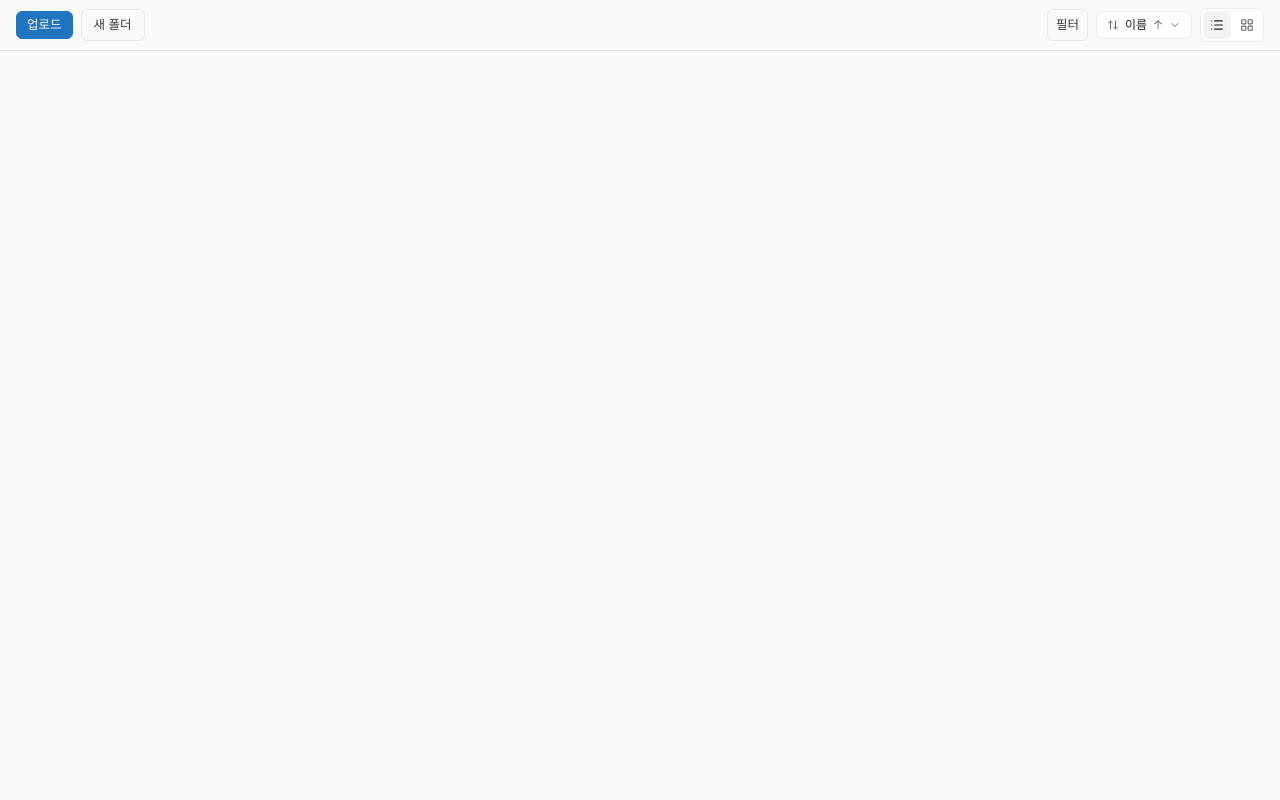
Test: FolderToolbar › "새 폴더" 클릭 시 CreateFolderDialog가 열린다
Click the button "새 폴더".
click(112, 25)  # box [80, 9, 144, 41]
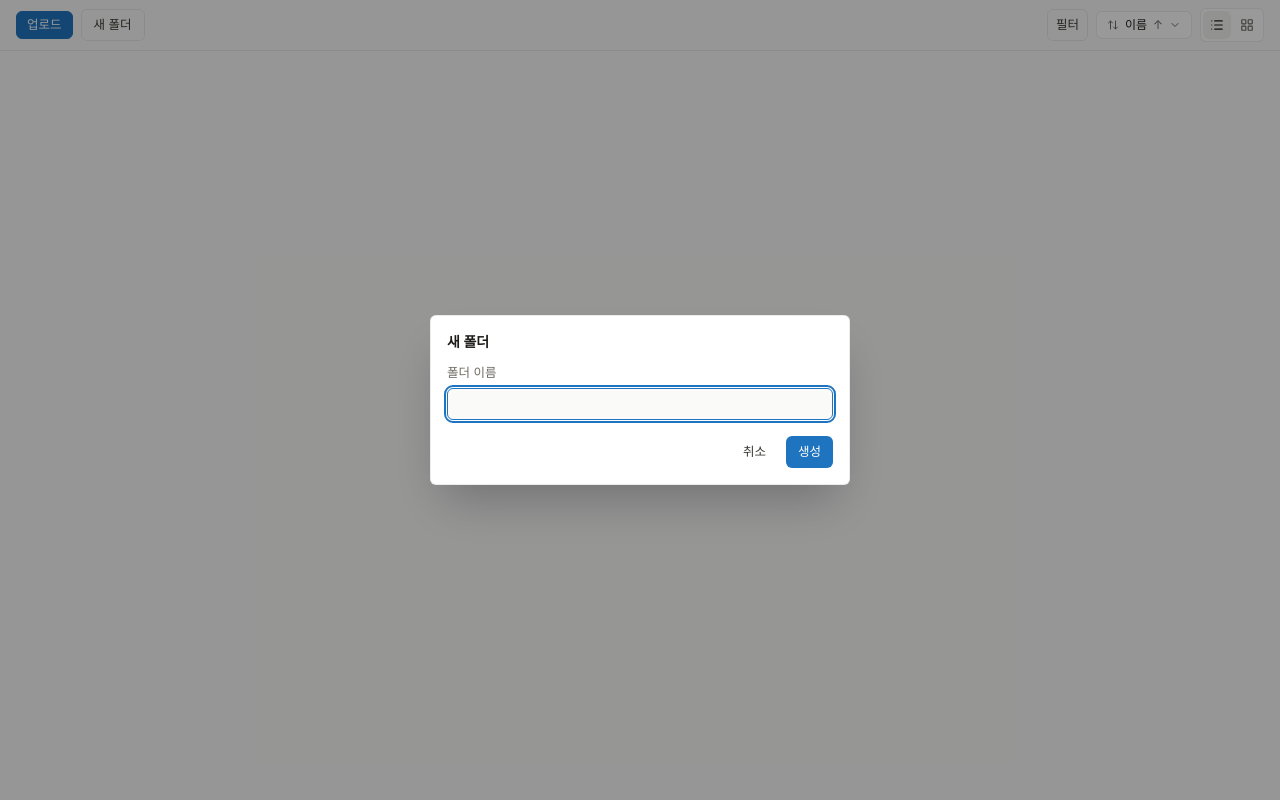
Expected: the dialog is shown
